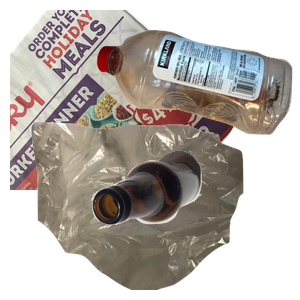glass: (90, 148, 300, 300)
paper: (10, 10, 247, 190)
plastic: (93, 27, 300, 154)
trash: (29, 120, 265, 300)
